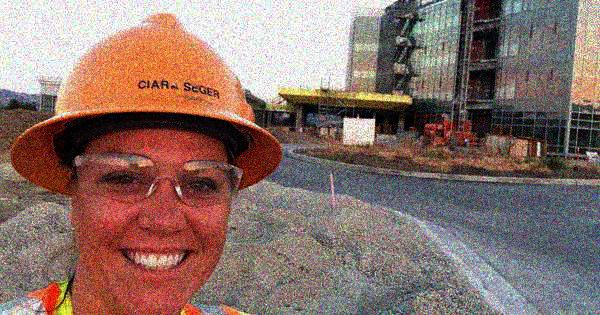helmet: (10, 13, 285, 315)
